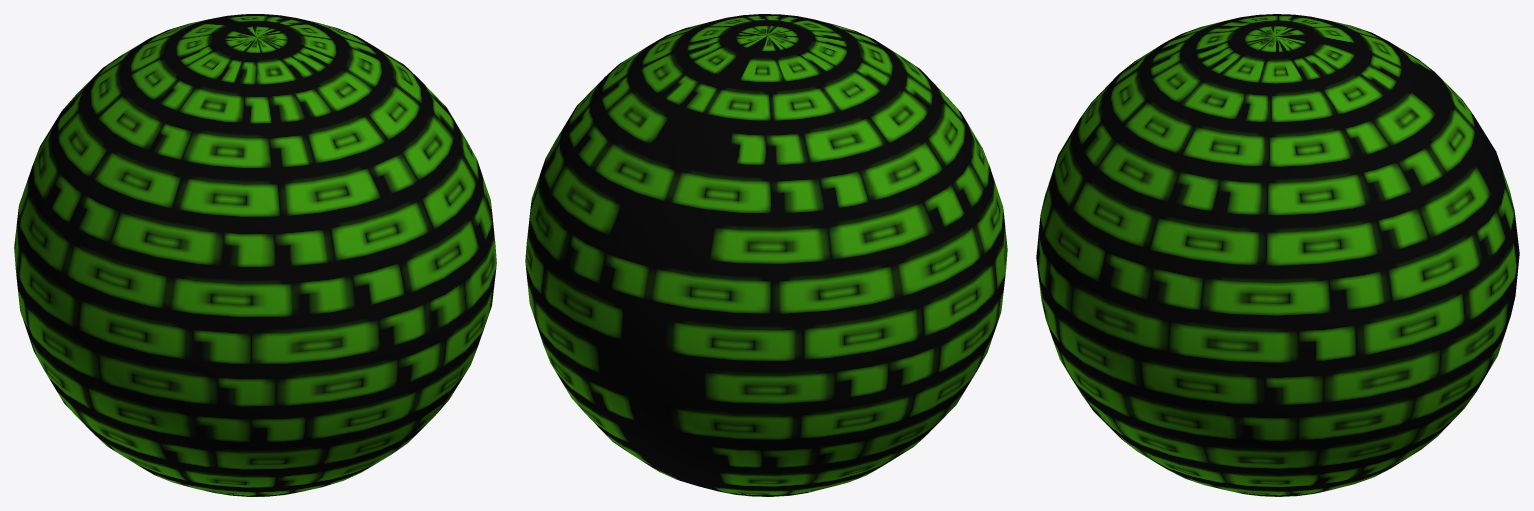
Rendered from Ball.FBX.
3 renders of one model, left to right at view 1: azimuth 30°, elevation 25°; view 2: azimuth 150°, elevation 25°; view 3: azimuth 270°, elevation 25°, orthographic.
Parts seen in each view (by area): view 1: Sphere001; view 2: Sphere001; view 3: Sphere001.
Boxes of the visible parts, left/top/right/bottom form: Sphere001: left=14, top=14, right=496, bottom=496; Sphere001: left=525, top=14, right=1007, bottom=496; Sphere001: left=1036, top=14, right=1519, bottom=496.
Bounding box in the file's own units: 87.38 × 87.38 × 87.38.
Materials: 1 (1 with a texture image).
